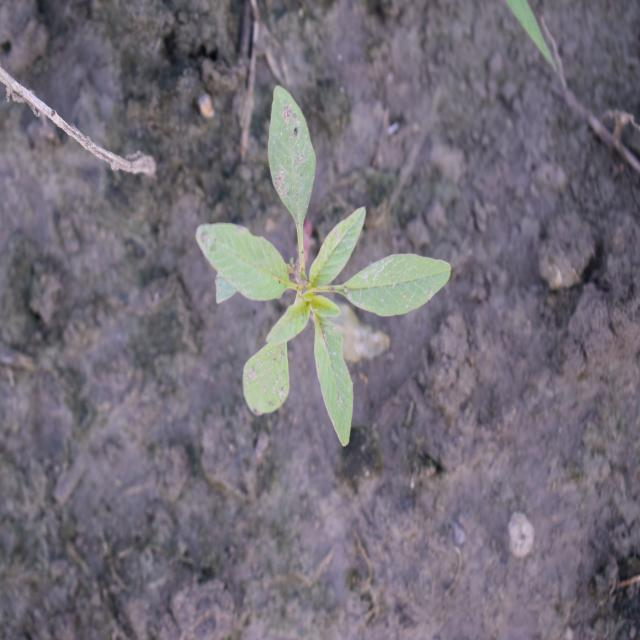Waterhemp: (194, 84, 452, 448)
